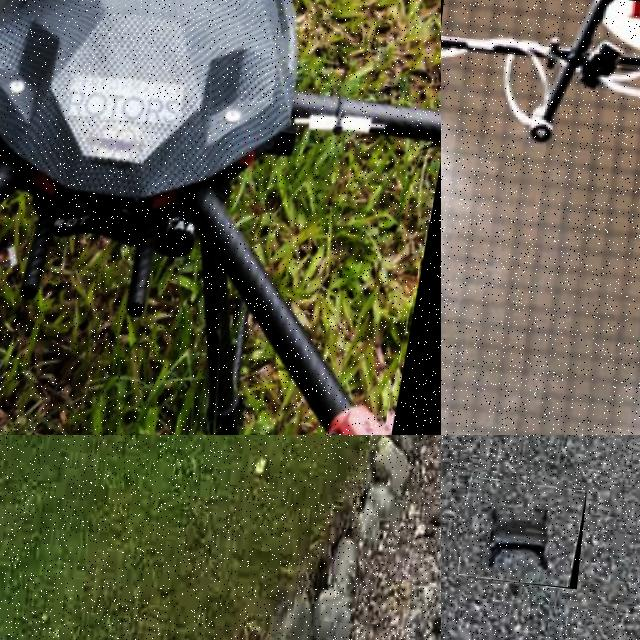0: (458, 477, 586, 589)
drone: (0, 0, 441, 435)
